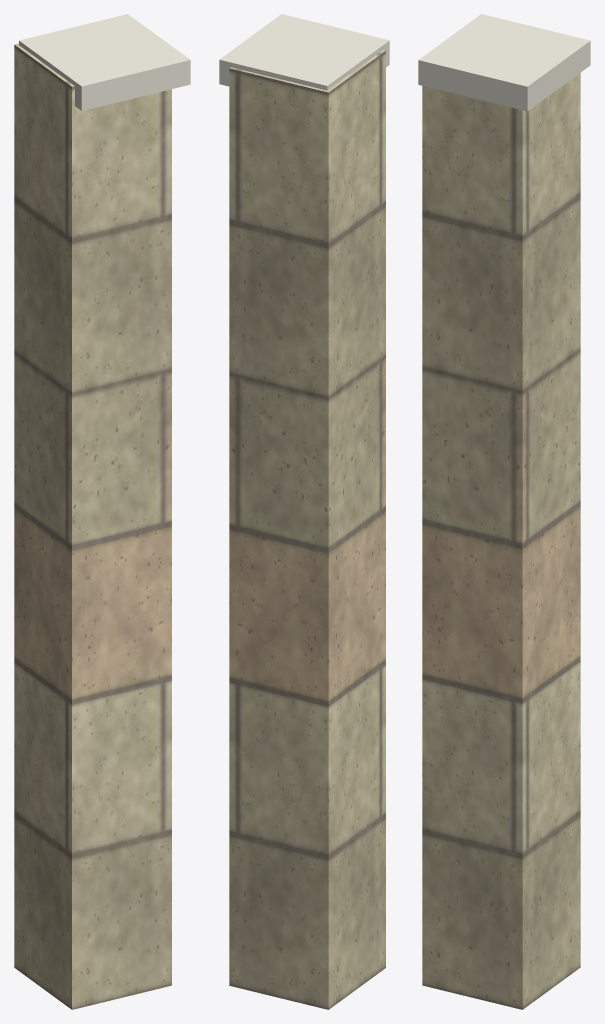
File: corner_ashlar.glb
3 views of the same model, side by side, from view 1: azimuth 30°, elevation 25°; view 2: azimuth 150°, elevation 25°; view 3: azimuth 330°, elevation 25° (orthographic).
Parts seen in each view (by area): view 1: corner_ashlar_ashlar, corner_ashlar_trim; view 2: corner_ashlar_ashlar, corner_ashlar_trim; view 3: corner_ashlar_ashlar, corner_ashlar_trim.
Part boxes in pixels (left/top/right/bottom): corner_ashlar_ashlar: left=14, top=43, right=171, bottom=1009; corner_ashlar_trim: left=19, top=14, right=190, bottom=110; corner_ashlar_ashlar: left=229, top=50, right=385, bottom=1009; corner_ashlar_trim: left=219, top=14, right=389, bottom=90; corner_ashlar_ashlar: left=422, top=73, right=580, bottom=1009; corner_ashlar_trim: left=418, top=14, right=590, bottom=111.
Size of the model in its own units: 0.38 by 3.02 by 0.38.
Materials: 2 (1 with a texture image).
